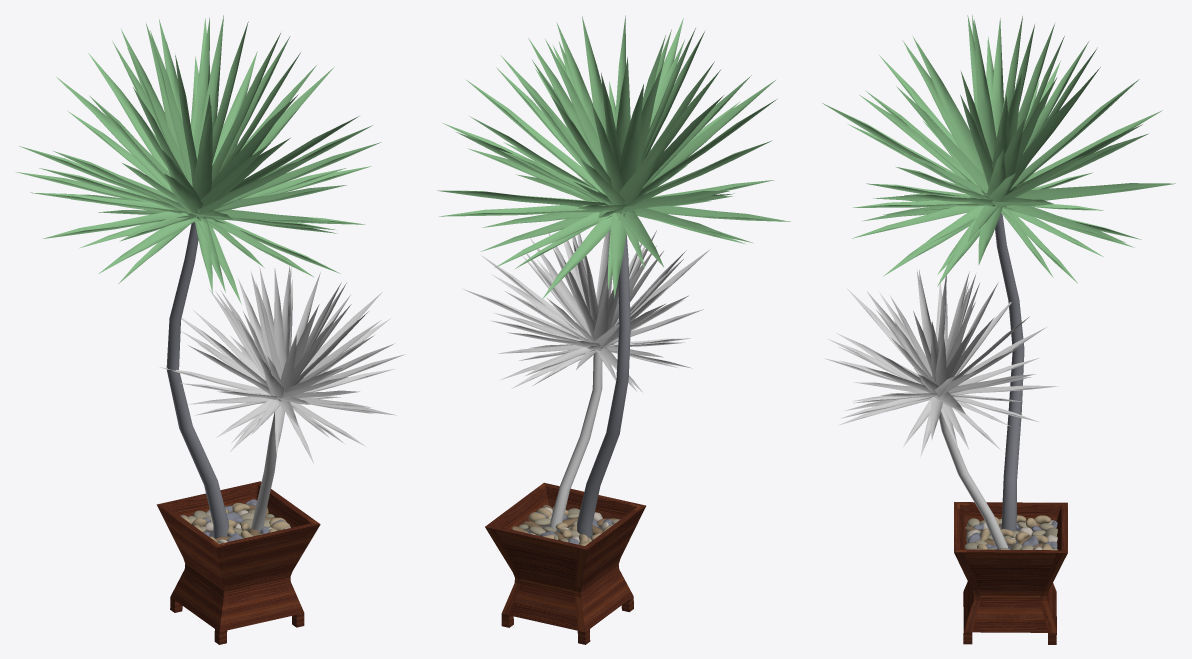
The model's file is yuccaPlant.obj.
3 views of the same model, side by side, from view 1: azimuth 30°, elevation 25°; view 2: azimuth 150°, elevation 25°; view 3: azimuth 270°, elevation 25° (orthographic). The views are drawn at different scales.
Parts seen in each view (by area): view 1: Spike_plant_1_Plane.1071, Spike_plant_2_Plane.1169, Pot_1_Plane.1171, Spike_trunk_2_Cylinder, Rock_0_Sphere.000, Spike_trunk_1_Cylinder.001; view 2: Spike_plant_1_Plane.1071, Pot_1_Plane.1171, Spike_plant_2_Plane.1169, Spike_trunk_2_Cylinder, Rock_0_Sphere.000, Spike_trunk_1_Cylinder.001; view 3: Spike_plant_1_Plane.1071, Spike_plant_2_Plane.1169, Pot_1_Plane.1171, Spike_trunk_2_Cylinder, Rock_0_Sphere.000, Spike_trunk_1_Cylinder.001.
Boxes of the visible parts, x1,y1,x2,y2 form: Spike_plant_1_Plane.1071: (16,15,381,304); Spike_plant_2_Plane.1169: (160,266,404,463); Pot_1_Plane.1171: (156,481,320,644); Spike_trunk_2_Cylinder: (166,222,228,538); Rock_0_Sphere.000: (180,499,290,543); Spike_trunk_1_Cylinder.001: (251,401,281,533); Spike_plant_1_Plane.1071: (437,15,790,299); Pot_1_Plane.1171: (485,482,645,644); Spike_plant_2_Plane.1169: (463,230,710,392); Spike_trunk_2_Cylinder: (577,212,630,537); Rock_0_Sphere.000: (512,504,620,545); Spike_trunk_1_Cylinder.001: (549,352,602,529); Spike_plant_1_Plane.1071: (822,15,1175,286); Spike_plant_2_Plane.1169: (824,269,1058,457); Pot_1_Plane.1171: (954,502,1067,644); Spike_trunk_2_Cylinder: (995,213,1024,537); Rock_0_Sphere.000: (964,515,1057,550); Spike_trunk_1_Cylinder.001: (938,397,1008,549).
Bounding box in the file's own units: 108 × 181 × 103.
